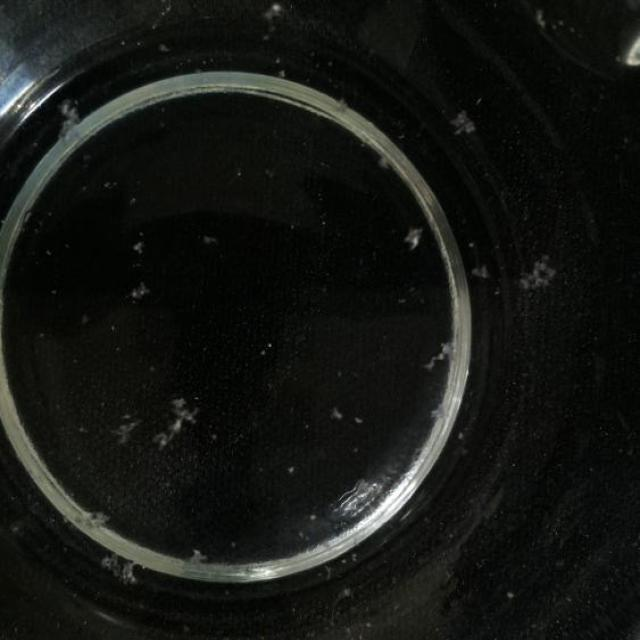fiber: (147, 396, 200, 453), (93, 542, 146, 596), (516, 255, 564, 300), (101, 404, 141, 452), (426, 338, 467, 376), (119, 274, 157, 310), (56, 96, 80, 150), (442, 104, 479, 138), (397, 223, 431, 257), (184, 536, 217, 566), (85, 506, 114, 536), (125, 232, 154, 260), (429, 399, 450, 420)
